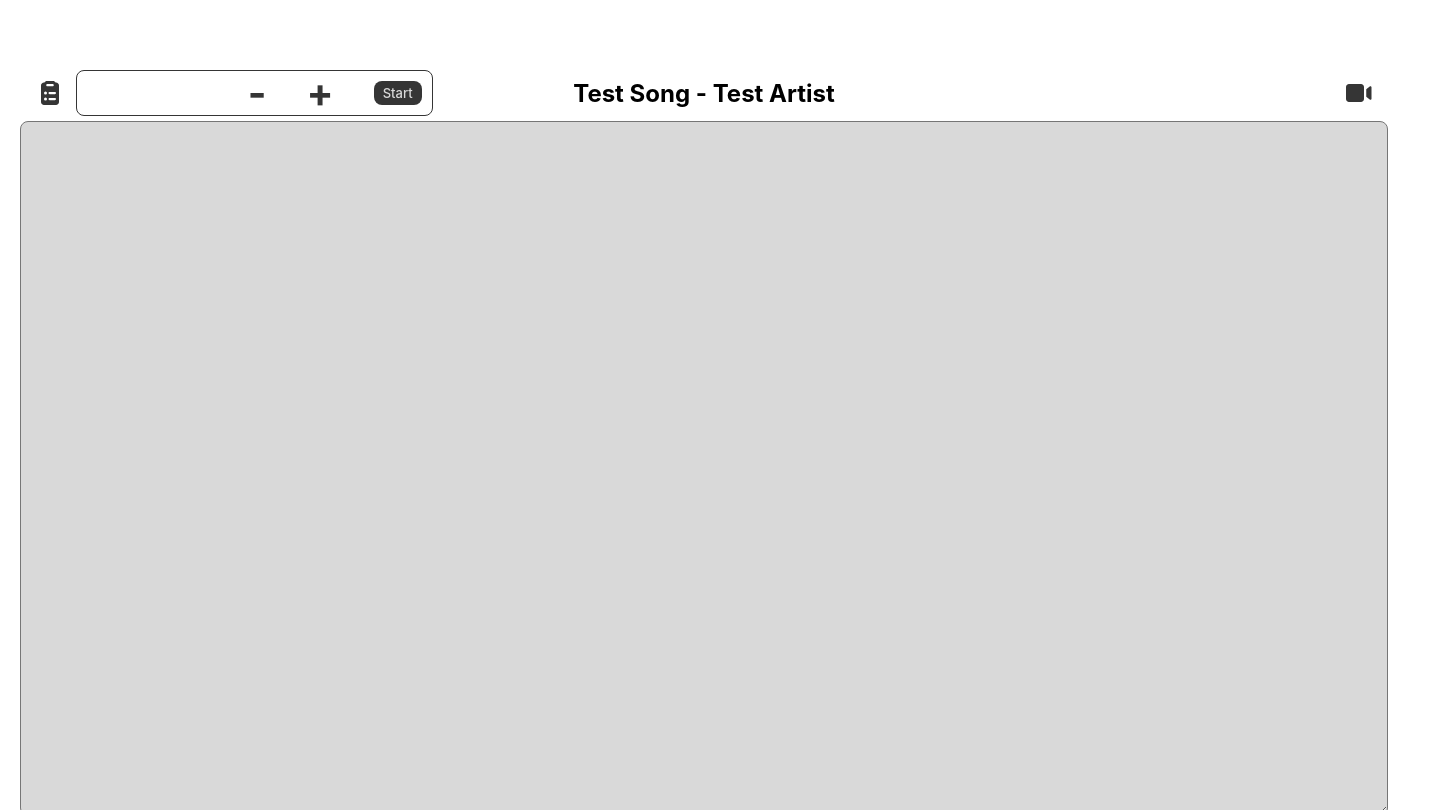
SongDisplay › toggles back to Start when scrolling stops
This screenshot has width=1440, height=810.
Click the button "Start" at [398, 93], box [374,81,422,105]
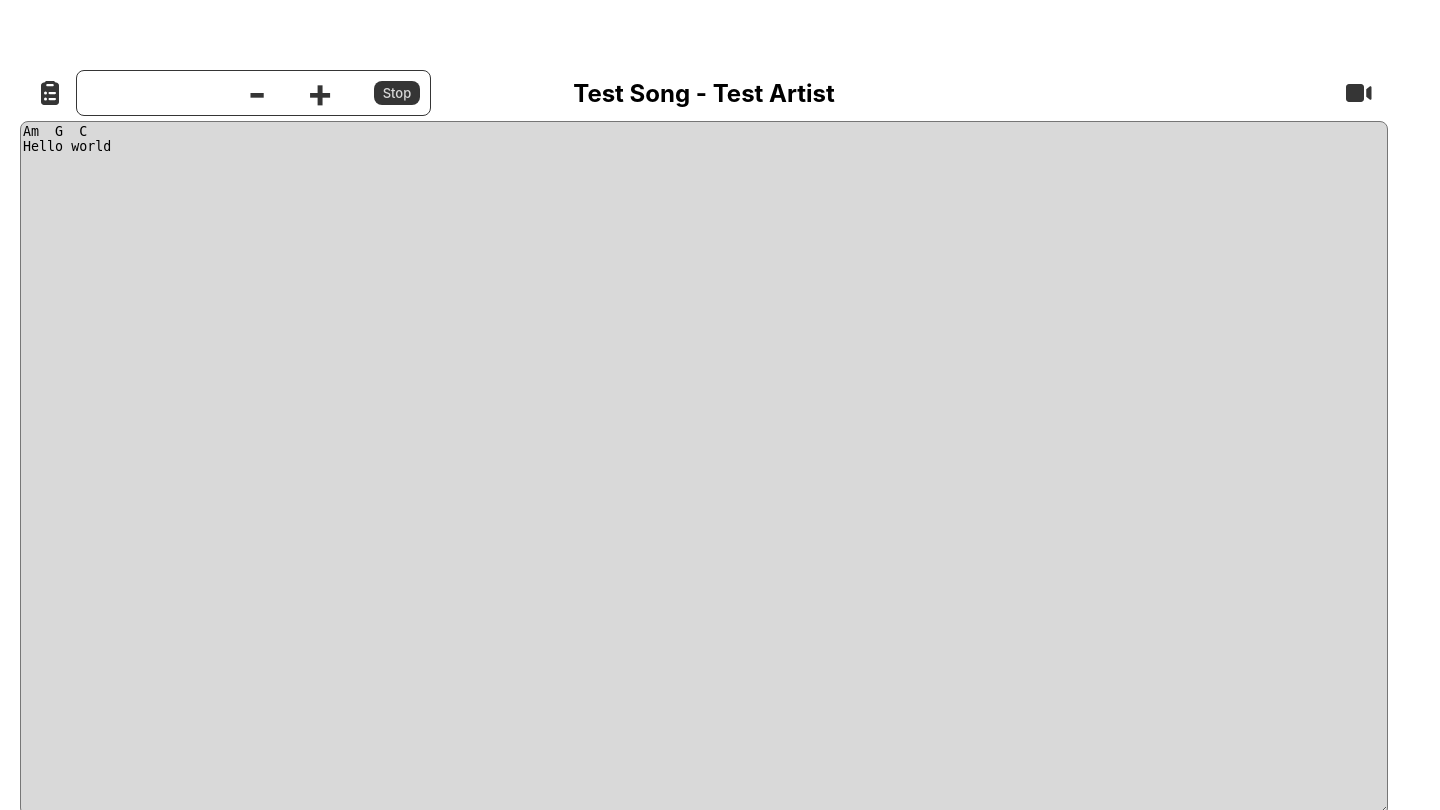
Click the button "Stop" at [397, 93], box [374,81,420,105]
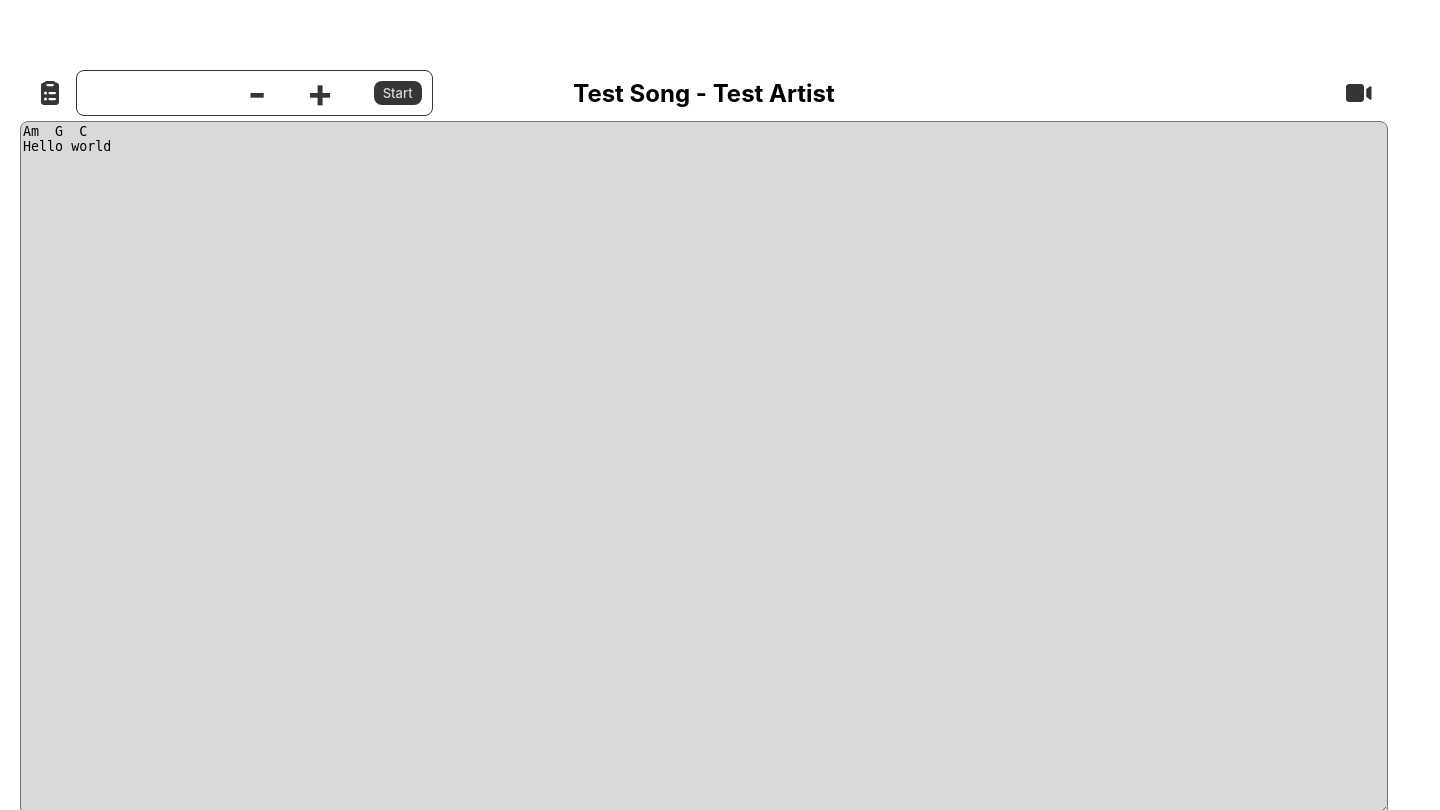
Result: the button "Start" is shown at [374,81,422,105]
